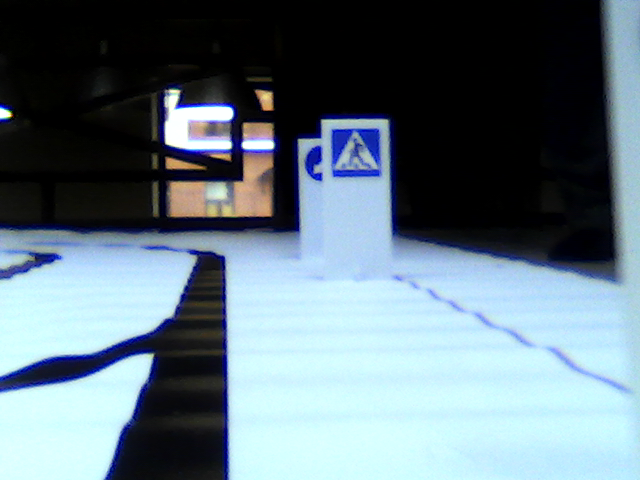pesh: (329, 126, 379, 175)
